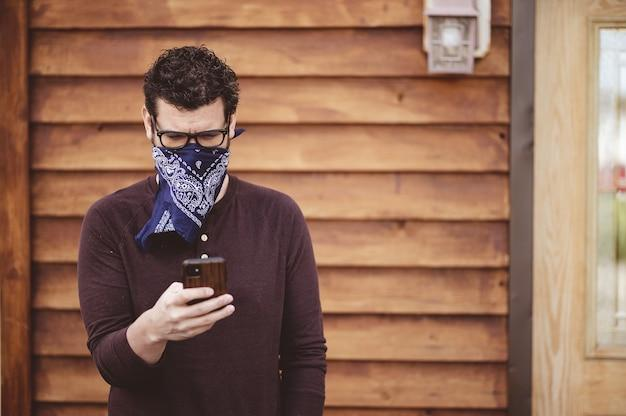scarf-kerchief: (136, 141, 236, 259)
sunglasses: (153, 122, 241, 158)
